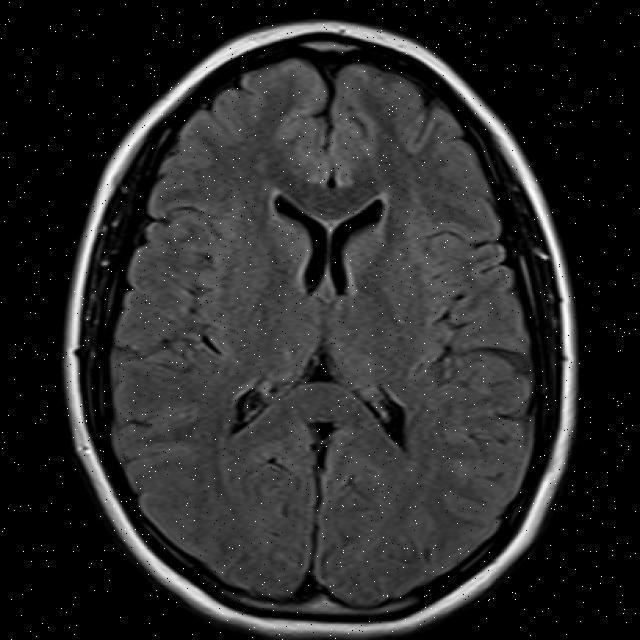No_Tumor: (65, 21, 574, 635)
